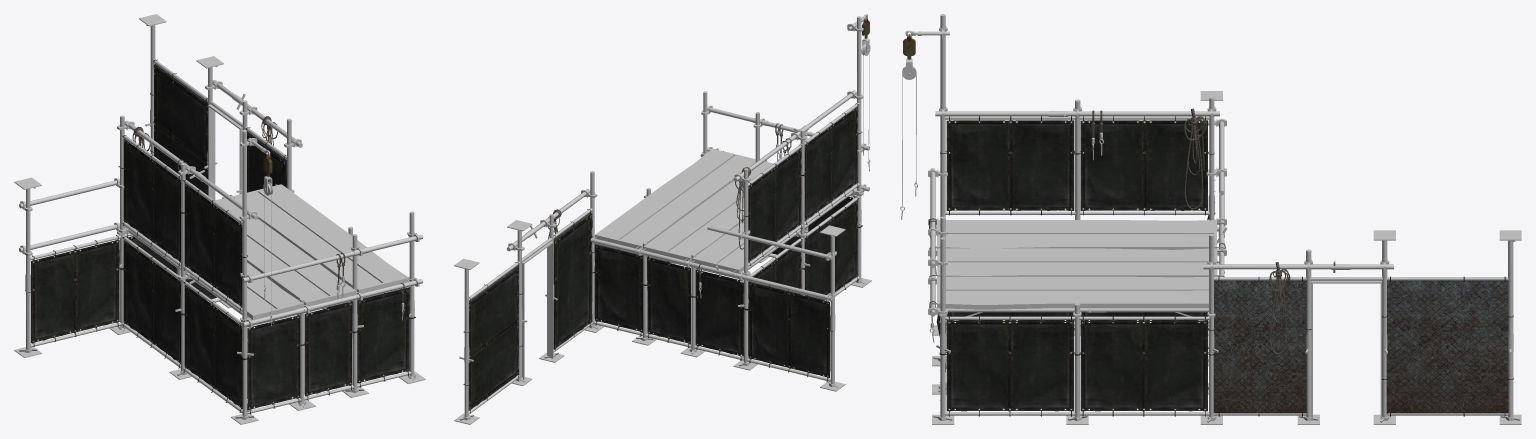
The model's file is sm22_079_scaffold01b.fbx.
The picture shows the model from 3 angles, left to right: view 1: azimuth 30°, elevation 25°; view 2: azimuth 150°, elevation 25°; view 3: azimuth 270°, elevation 25°; orthographic projection. The views are drawn at different scales.
Visible parts, largest first — view 1: LOD_1_Group_0_Sub_4__sm22_079_Scaffold01B_A_Mat, LOD_1_Group_0_Sub_1__sm22_079_Scaffold01B_B_Mat, LOD_1_Group_0_Sub_2__sm22_079_Scaffold01B_E_Mat, LOD_1_Group_0_Sub_3__sm22_079_Scaffold01B_D_Mat; view 2: LOD_1_Group_0_Sub_4__sm22_079_Scaffold01B_A_Mat, LOD_1_Group_0_Sub_1__sm22_079_Scaffold01B_B_Mat, LOD_1_Group_0_Sub_2__sm22_079_Scaffold01B_E_Mat, LOD_1_Group_0_Sub_3__sm22_079_Scaffold01B_D_Mat; view 3: LOD_1_Group_0_Sub_4__sm22_079_Scaffold01B_A_Mat, LOD_1_Group_0_Sub_1__sm22_079_Scaffold01B_B_Mat, LOD_1_Group_0_Sub_5__sm22_079_Scaffold01B_C_Mat, LOD_1_Group_0_Sub_2__sm22_079_Scaffold01B_E_Mat, LOD_1_Group_0_Sub_3__sm22_079_Scaffold01B_D_Mat.
Part boxes in pixels (box(x1,y1,x2,y2)): LOD_1_Group_0_Sub_4__sm22_079_Scaffold01B_A_Mat: box(25, 59, 415, 414); LOD_1_Group_0_Sub_1__sm22_079_Scaffold01B_B_Mat: box(14, 14, 425, 424); LOD_1_Group_0_Sub_2__sm22_079_Scaffold01B_E_Mat: box(132, 116, 404, 303); LOD_1_Group_0_Sub_3__sm22_079_Scaffold01B_D_Mat: box(261, 147, 404, 325); LOD_1_Group_0_Sub_4__sm22_079_Scaffold01B_A_Mat: box(463, 103, 862, 413); LOD_1_Group_0_Sub_1__sm22_079_Scaffold01B_B_Mat: box(454, 16, 871, 424); LOD_1_Group_0_Sub_2__sm22_079_Scaffold01B_E_Mat: box(548, 17, 869, 282); LOD_1_Group_0_Sub_3__sm22_079_Scaffold01B_D_Mat: box(699, 14, 870, 298); LOD_1_Group_0_Sub_4__sm22_079_Scaffold01B_A_Mat: box(936, 116, 1513, 416); LOD_1_Group_0_Sub_1__sm22_079_Scaffold01B_B_Mat: box(921, 14, 1521, 424); LOD_1_Group_0_Sub_5__sm22_079_Scaffold01B_C_Mat: box(1213, 280, 1508, 414); LOD_1_Group_0_Sub_2__sm22_079_Scaffold01B_E_Mat: box(903, 34, 1290, 353); LOD_1_Group_0_Sub_3__sm22_079_Scaffold01B_D_Mat: box(900, 30, 1224, 342).
Bounding box in the file's own units: 5.76 × 5.54 × 9.88.
